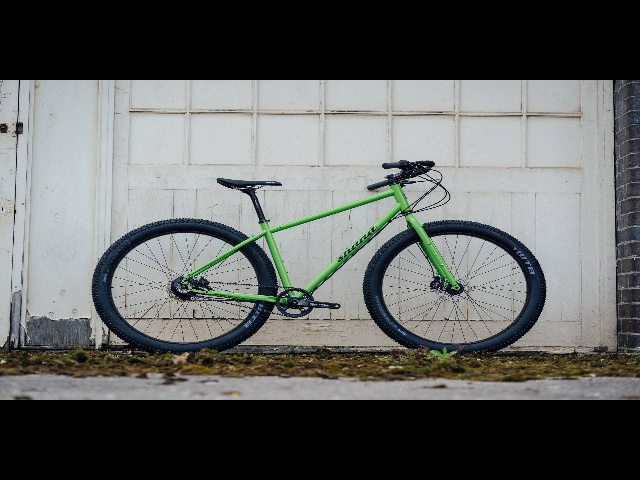bike: (84, 148, 570, 364)
